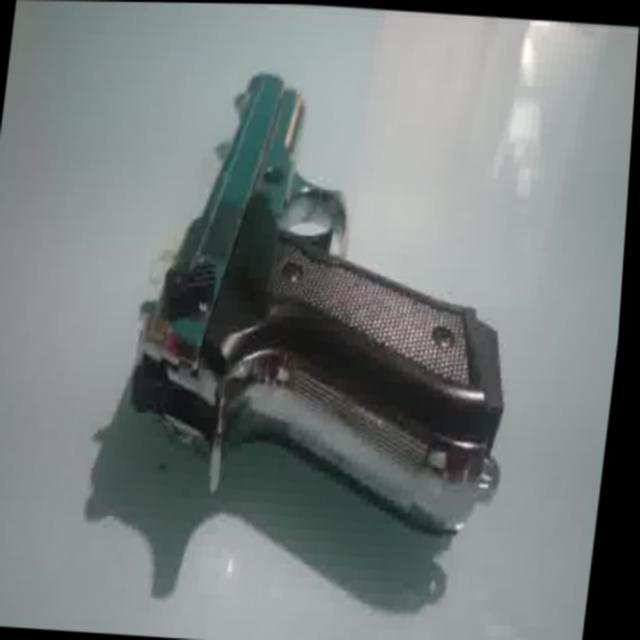weapon: (120, 63, 546, 537)
